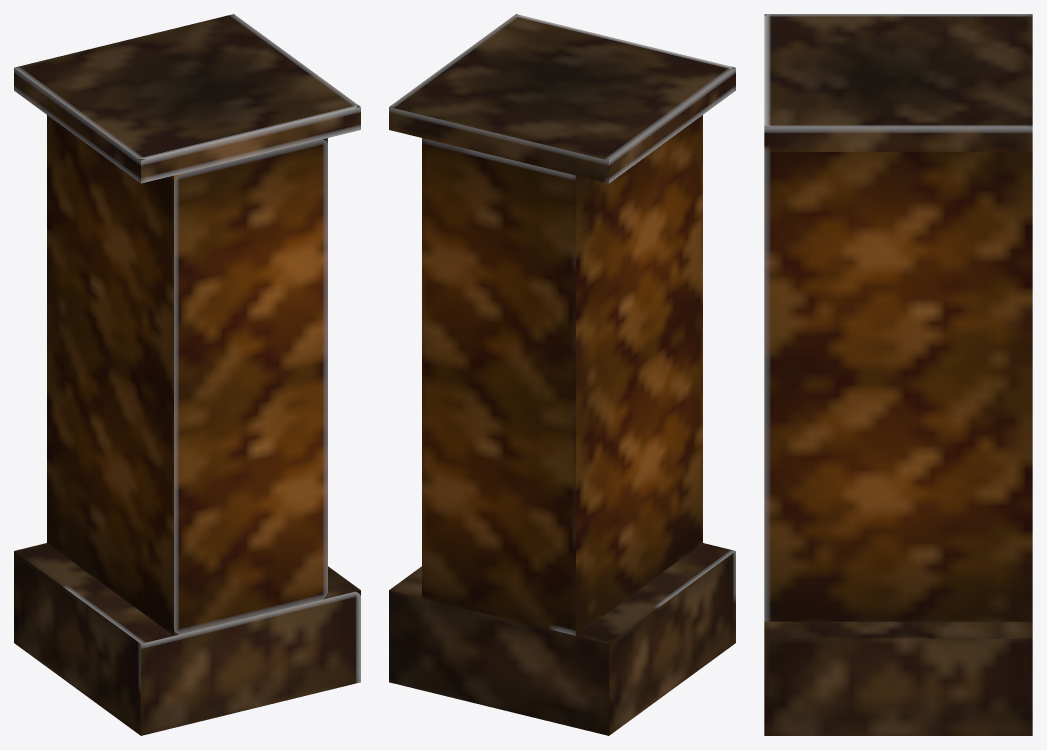
File: Endless light Wall models.fbx
3 renders of one model, left to right at view 1: azimuth 30°, elevation 25°; view 2: azimuth 150°, elevation 25°; view 3: azimuth 270°, elevation 25°, orthographic. The views are drawn at different scales.
Parts seen in each view (by area): view 1: Wall; view 2: Wall; view 3: Wall.
Part boxes in pixels (x1,y1,x2,y2): Wall: (14, 14, 360, 735); Wall: (389, 14, 735, 735); Wall: (764, 14, 1032, 735).
Bounding box in the file's own units: 100 × 250 × 100.
